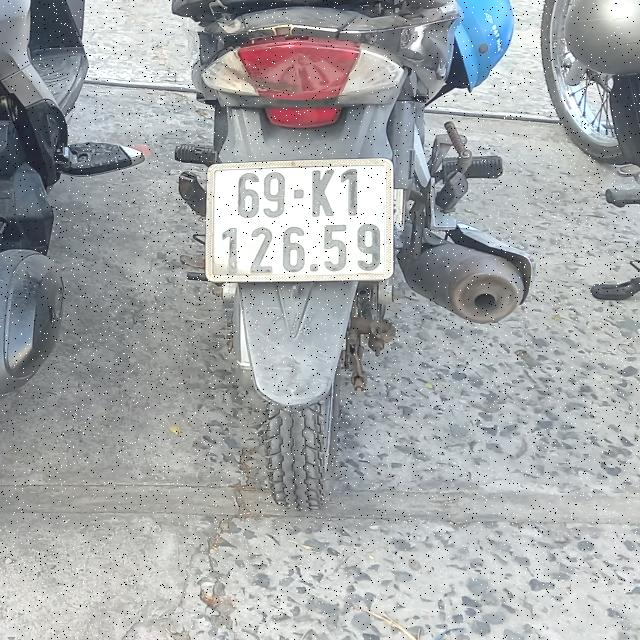1: (221, 226, 242, 272), (340, 168, 358, 216)
2: (251, 226, 273, 276)
5: (321, 223, 347, 272)
6: (282, 225, 306, 272), (238, 174, 260, 219)
9: (262, 172, 285, 220), (358, 225, 381, 272)
K: (311, 170, 334, 216)
